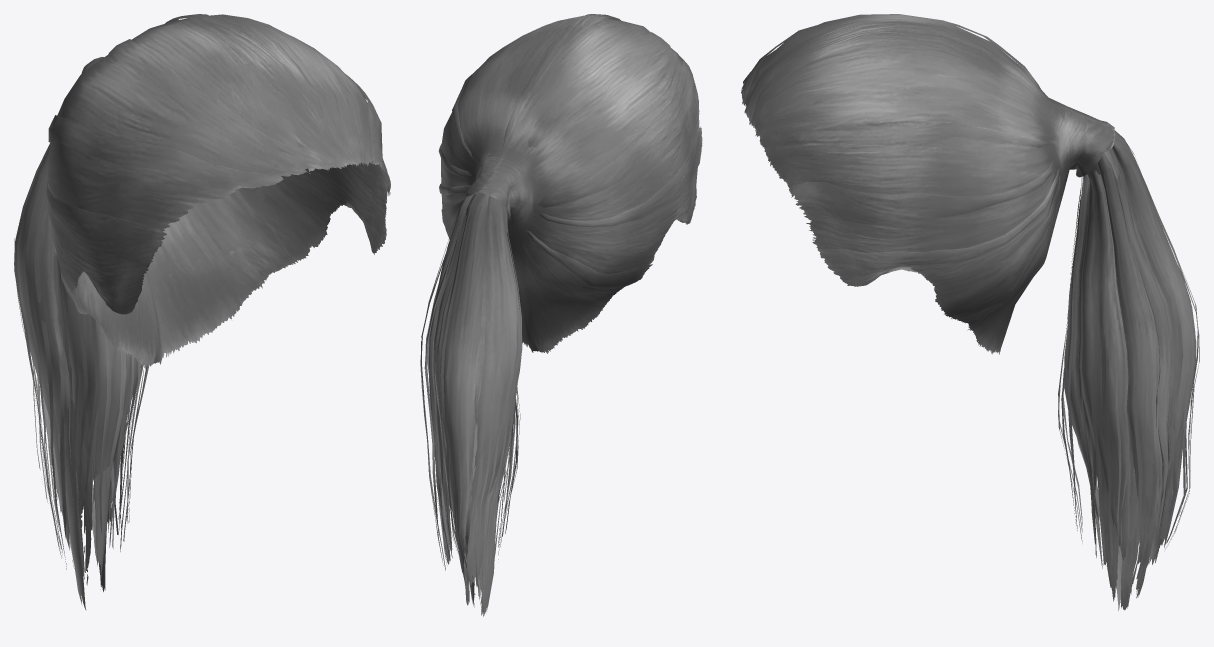
The model's file is ponytail01.glb.
3 renders of one model, left to right at view 1: azimuth 30°, elevation 25°; view 2: azimuth 150°, elevation 25°; view 3: azimuth 270°, elevation 25°, orthographic. The views are drawn at different scales.
Visible parts, largest first — view 1: editor_ponytail01; view 2: editor_ponytail01; view 3: editor_ponytail01.
Part boxes in pixels (left/top/right/bottom): editor_ponytail01: left=14, top=14, right=390, bottom=610; editor_ponytail01: left=420, top=14, right=702, bottom=616; editor_ponytail01: left=741, top=14, right=1199, bottom=610.
Size of the model in its own units: 0.1489 by 0.3558 by 0.2426.
1 material, 1 textured.
